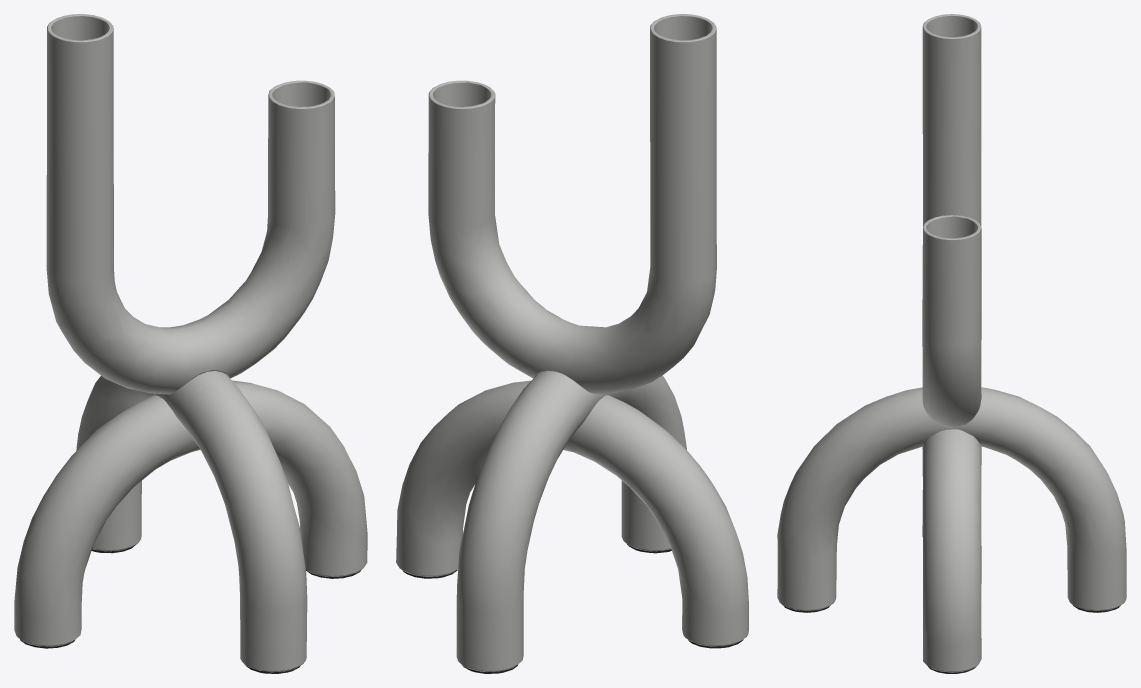
The model's file is snoduva_swiecznik_30623747.glb.
3 renders of one model, left to right at view 1: azimuth 30°, elevation 25°; view 2: azimuth 150°, elevation 25°; view 3: azimuth 270°, elevation 25°, orthographic. The views are drawn at different scales.
Parts seen in each view (by area): view 1: snoduva_swiecznik_30623747; view 2: snoduva_swiecznik_30623747; view 3: snoduva_swiecznik_30623747.
Part boxes in pixels (box(x1,y1,x2,y2)): snoduva_swiecznik_30623747: box(14, 14, 367, 673); snoduva_swiecznik_30623747: box(396, 14, 748, 673); snoduva_swiecznik_30623747: box(777, 14, 1126, 673).
Size of the model in its own units: 0.149 by 0.249 by 0.1492.
1 material, 1 textured.
